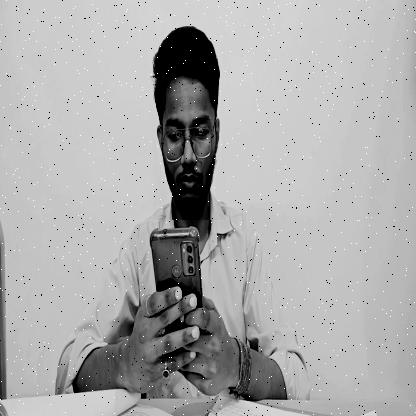Normal: (154, 28, 226, 220)
